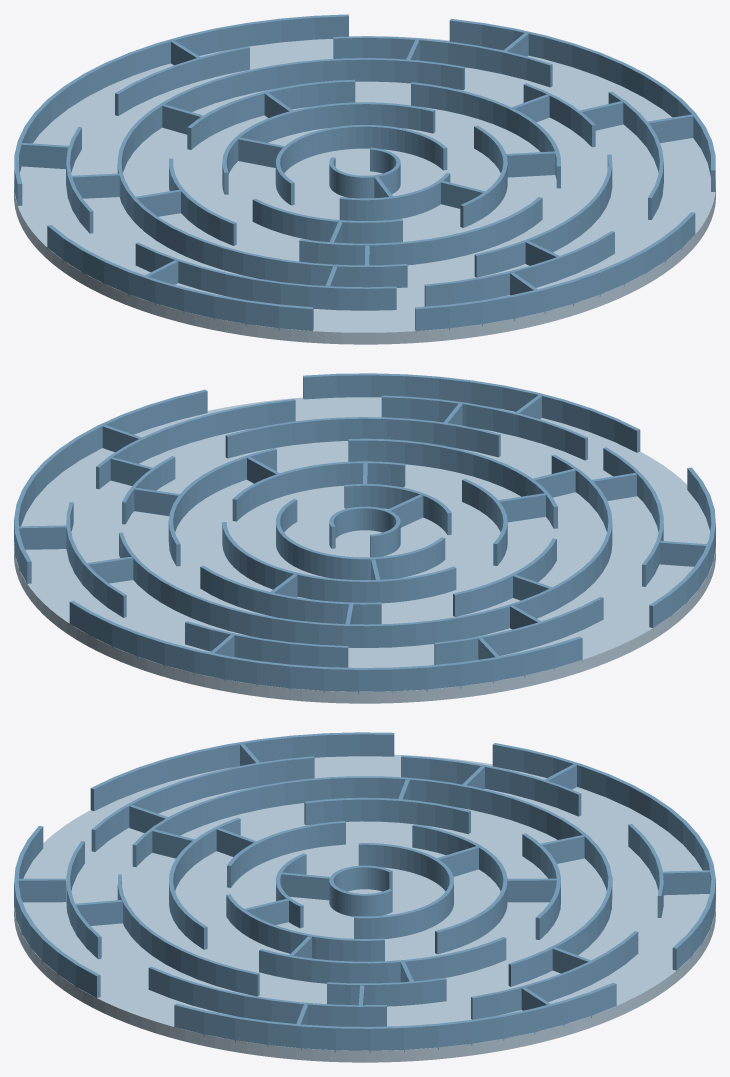
File: maze2.fbx
The picture shows the model from 3 angles, top to bottom: view 1: azimuth 30°, elevation 25°; view 2: azimuth 150°, elevation 25°; view 3: azimuth 270°, elevation 25°; orthographic projection.
Parts seen in each view (by area): view 1: Cylinder, Cylinder.007, Cylinder.006, Cylinder.005, Cylinder.004, Cylinder.003, Cylinder.002, Cylinder.001, Cube.020, Cube.011, Cube.010, Cube.002 (+6 smaller); view 2: Cylinder, Cylinder.007, Cylinder.005, Cylinder.006, Cylinder.004, Cylinder.003, Cylinder.002, Cylinder.001, Cube.005, Cube.015, Cube.012, Cube.013 (+7 smaller); view 3: Cylinder, Cylinder.007, Cylinder.006, Cylinder.005, Cylinder.004, Cylinder.003, Cylinder.002, Cylinder.001, Cube.014, Cube.009, Cube, Cube.017 (+8 smaller).
Boxes of the visible parts, x1,y1,x2,y2 form: Cylinder: (14,36,715,344); Cylinder.007: (14,14,715,333); Cylinder.006: (66,36,663,310); Cylinder.005: (117,58,612,287); Cylinder.004: (169,79,560,265); Cylinder.003: (222,102,507,243); Cylinder.002: (275,125,450,220); Cylinder.001: (329,147,400,198); Cube.020: (506,151,555,177); Cube.011: (21,143,68,169); Cube.010: (72,173,119,198); Cube.002: (238,137,284,167); Cylinder: (14,397,715,703); Cylinder.007: (14,373,715,694); Cylinder.005: (119,417,612,647); Cylinder.006: (66,395,663,667); Cylinder.004: (168,438,557,624); Cylinder.003: (222,461,507,603); Cylinder.002: (276,484,451,579); Cylinder.001: (329,506,400,557); Cube.005: (19,525,66,549); Cube.015: (659,541,706,566); Cube.012: (498,493,545,522); Cube.013: (134,487,179,515); Cylinder: (14,754,715,1062); Cylinder.007: (14,732,715,1052); Cylinder.006: (66,755,663,1026); Cylinder.005: (117,776,612,1006); Cylinder.004: (169,797,560,983); Cylinder.003: (226,821,507,961); Cylinder.002: (276,843,453,938); Cylinder.001: (329,865,392,916); Cube.014: (507,878,556,902); Cube.009: (663,870,710,895); Cube: (281,872,329,900); Cube.017: (19,878,65,902).
Bounding box in the file's own units: 1181 × 62.51 × 1181.
